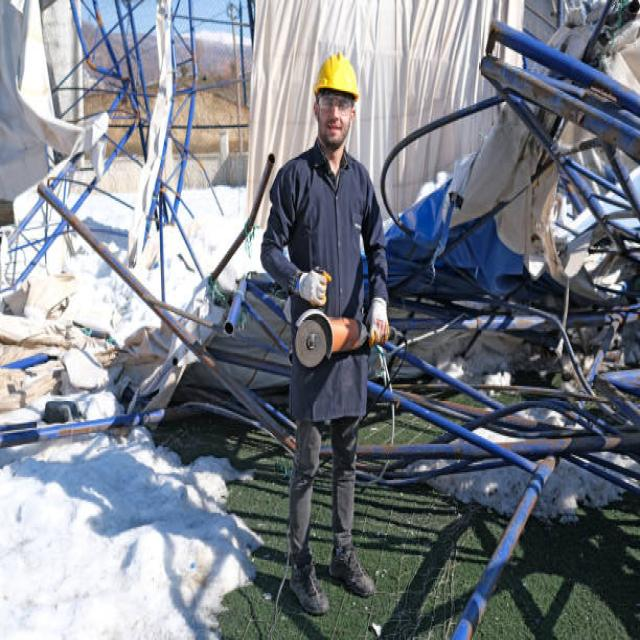Gloves: (292, 264, 330, 314), (362, 292, 394, 349)
helmet: (312, 53, 362, 102)
person: (260, 52, 391, 616)
